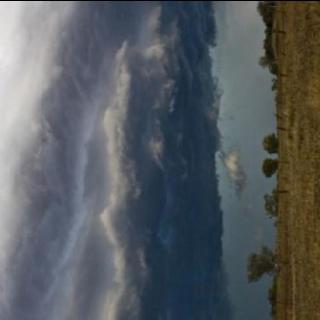Cumulonimbus: (10, 0, 244, 320)
